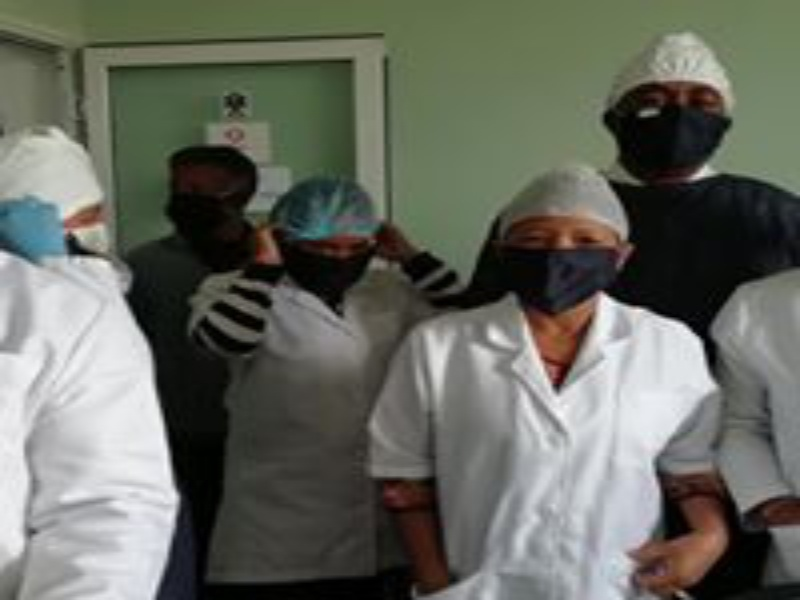ManaoArotava: (594, 17, 742, 188), (490, 158, 643, 320), (265, 166, 393, 294)
